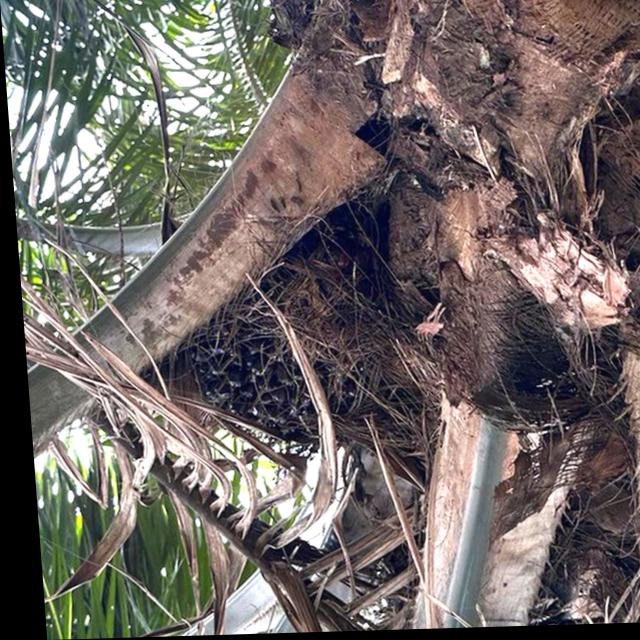almost: (173, 198, 409, 457)
